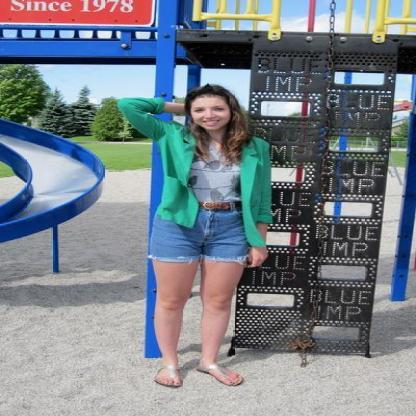jacket: (117, 98, 302, 246)
shirt: (192, 142, 240, 207)
shorts: (146, 209, 254, 388)
